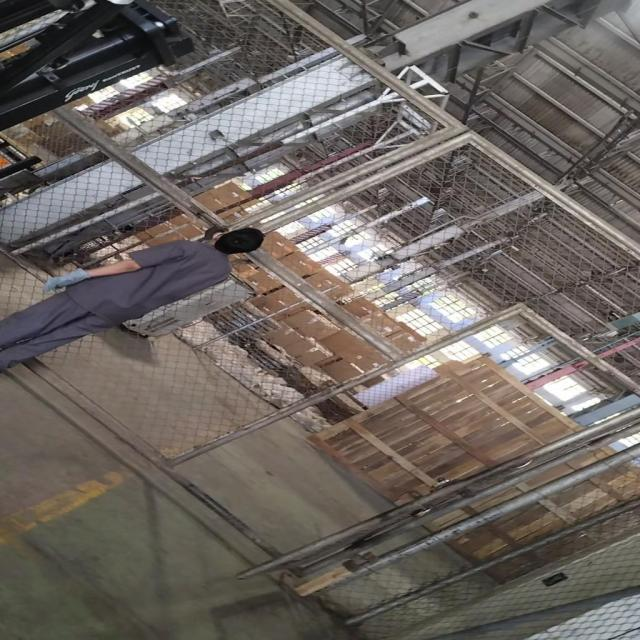Gloves-Detection: (44, 268, 94, 291)
